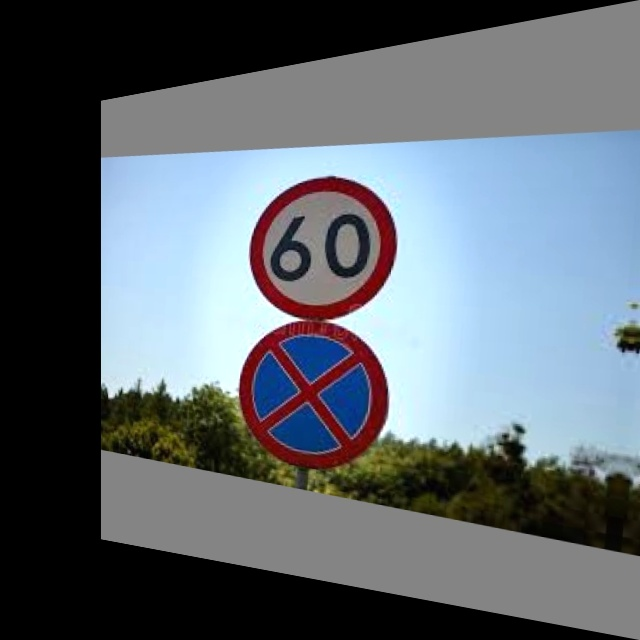Speed_Limit_60: (248, 163, 399, 325)
